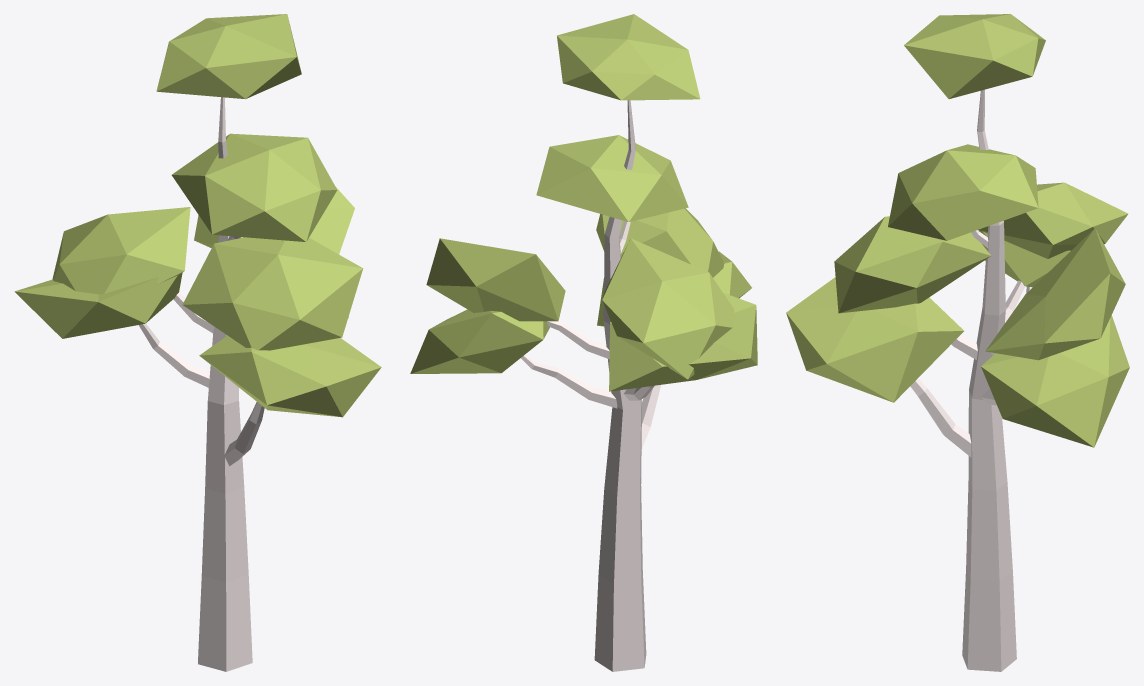
Rendered from Birch_001.fbx.
3 renders of one model, left to right at view 1: azimuth 30°, elevation 25°; view 2: azimuth 150°, elevation 25°; view 3: azimuth 270°, elevation 25°, orthographic. The views are drawn at different scales.
Parts seen in each view (by area): view 1: Birch.001; view 2: Birch.001; view 3: Birch.001.
Boxes of the visible parts, x1,y1,x2,y2 form: Birch.001: (14, 14, 381, 671); Birch.001: (410, 14, 757, 671); Birch.001: (786, 14, 1129, 671).
Bounding box in the file's own units: 3.75 × 6.78 × 3.3.
